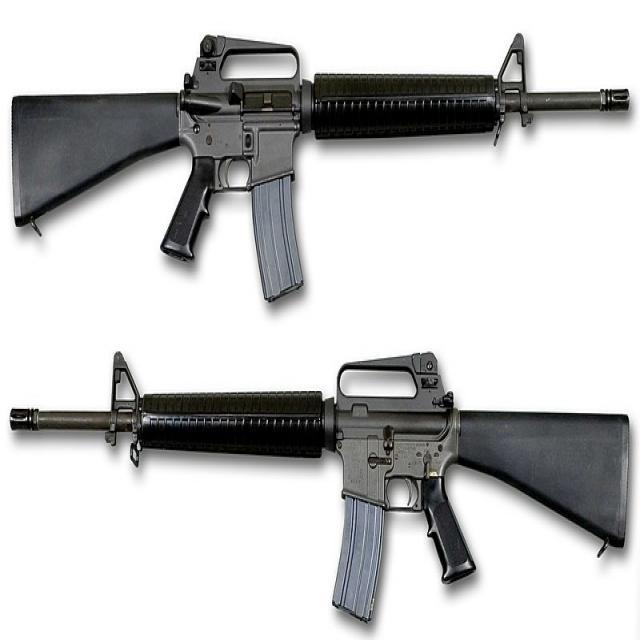rifle: (1, 18, 633, 334), (1, 334, 640, 640)
